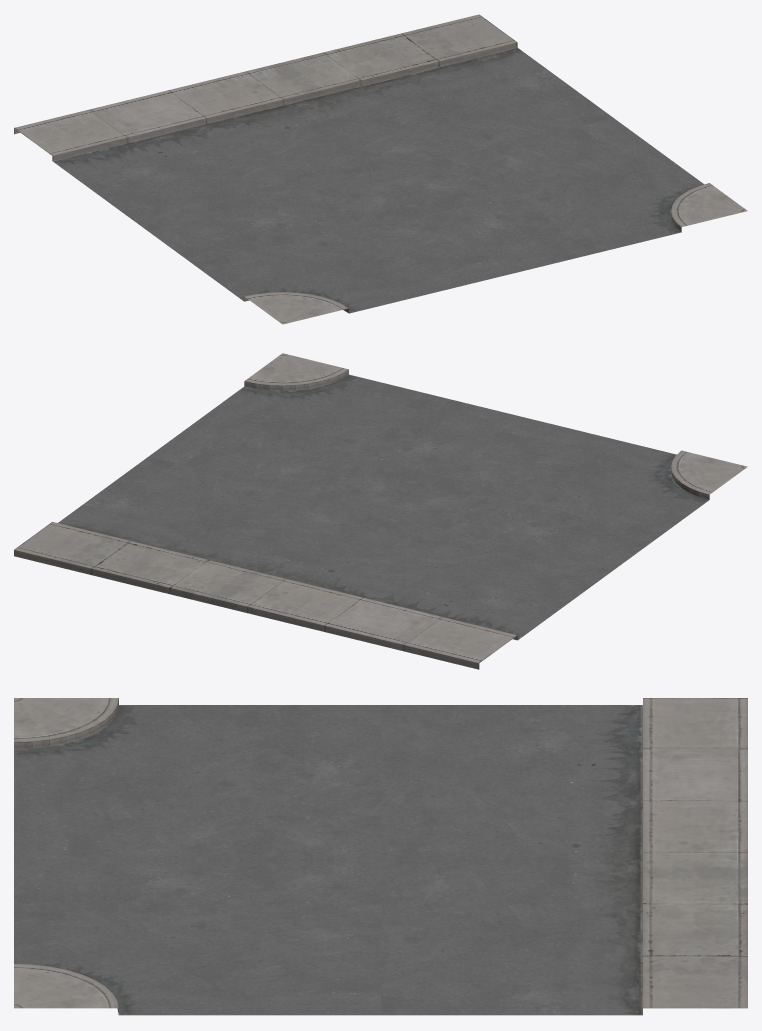
Rendered from Suburbs_road2.fbx.
The picture shows the model from 3 angles, top to bottom: view 1: azimuth 30°, elevation 25°; view 2: azimuth 150°, elevation 25°; view 3: azimuth 270°, elevation 25°; orthographic projection. The views are drawn at different scales.
Visible parts, largest first — view 1: Suburbs_road2; view 2: Suburbs_road2; view 3: Suburbs_road2.
Part boxes in pixels (left/top/right/bottom): Suburbs_road2: left=14, top=14, right=747, bottom=324; Suburbs_road2: left=14, top=353, right=747, bottom=669; Suburbs_road2: left=14, top=698, right=747, bottom=1015.
Bounding box in the file's own units: 1400 × 18.51 × 1400.
